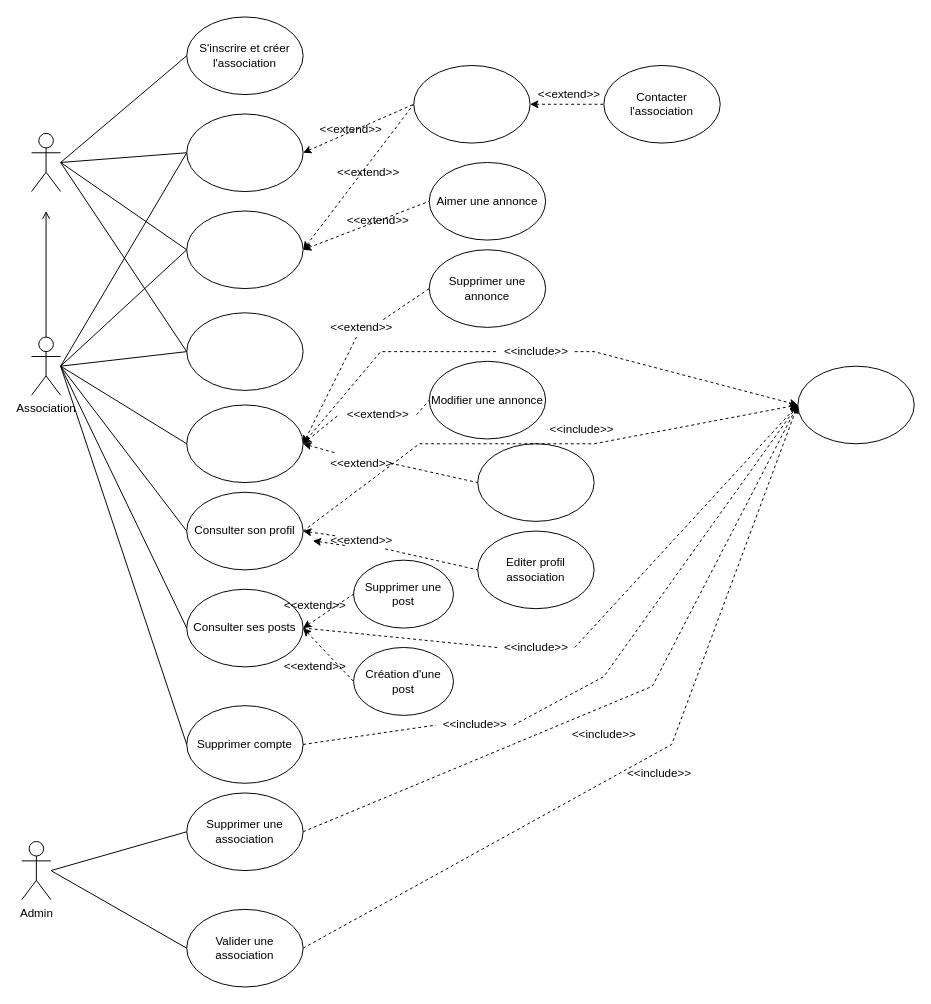
Some shapes in this 931 by 1004 pixel diagram are drawn without their labels. The shapes that lost their labels are listed below. From the top down, each one's centre as x and y in pixels, then its label:
[471,104]: Consulter une association
[46,162]: Visiteur
[244,152]: Rechercher association
[244,249]: Consulter les annonces des associations
[244,351]: Consulter les posts des associations
[855,404]: Authentification
[244,443]: Consulter ses annonces
[535,482]: Création des annonces
